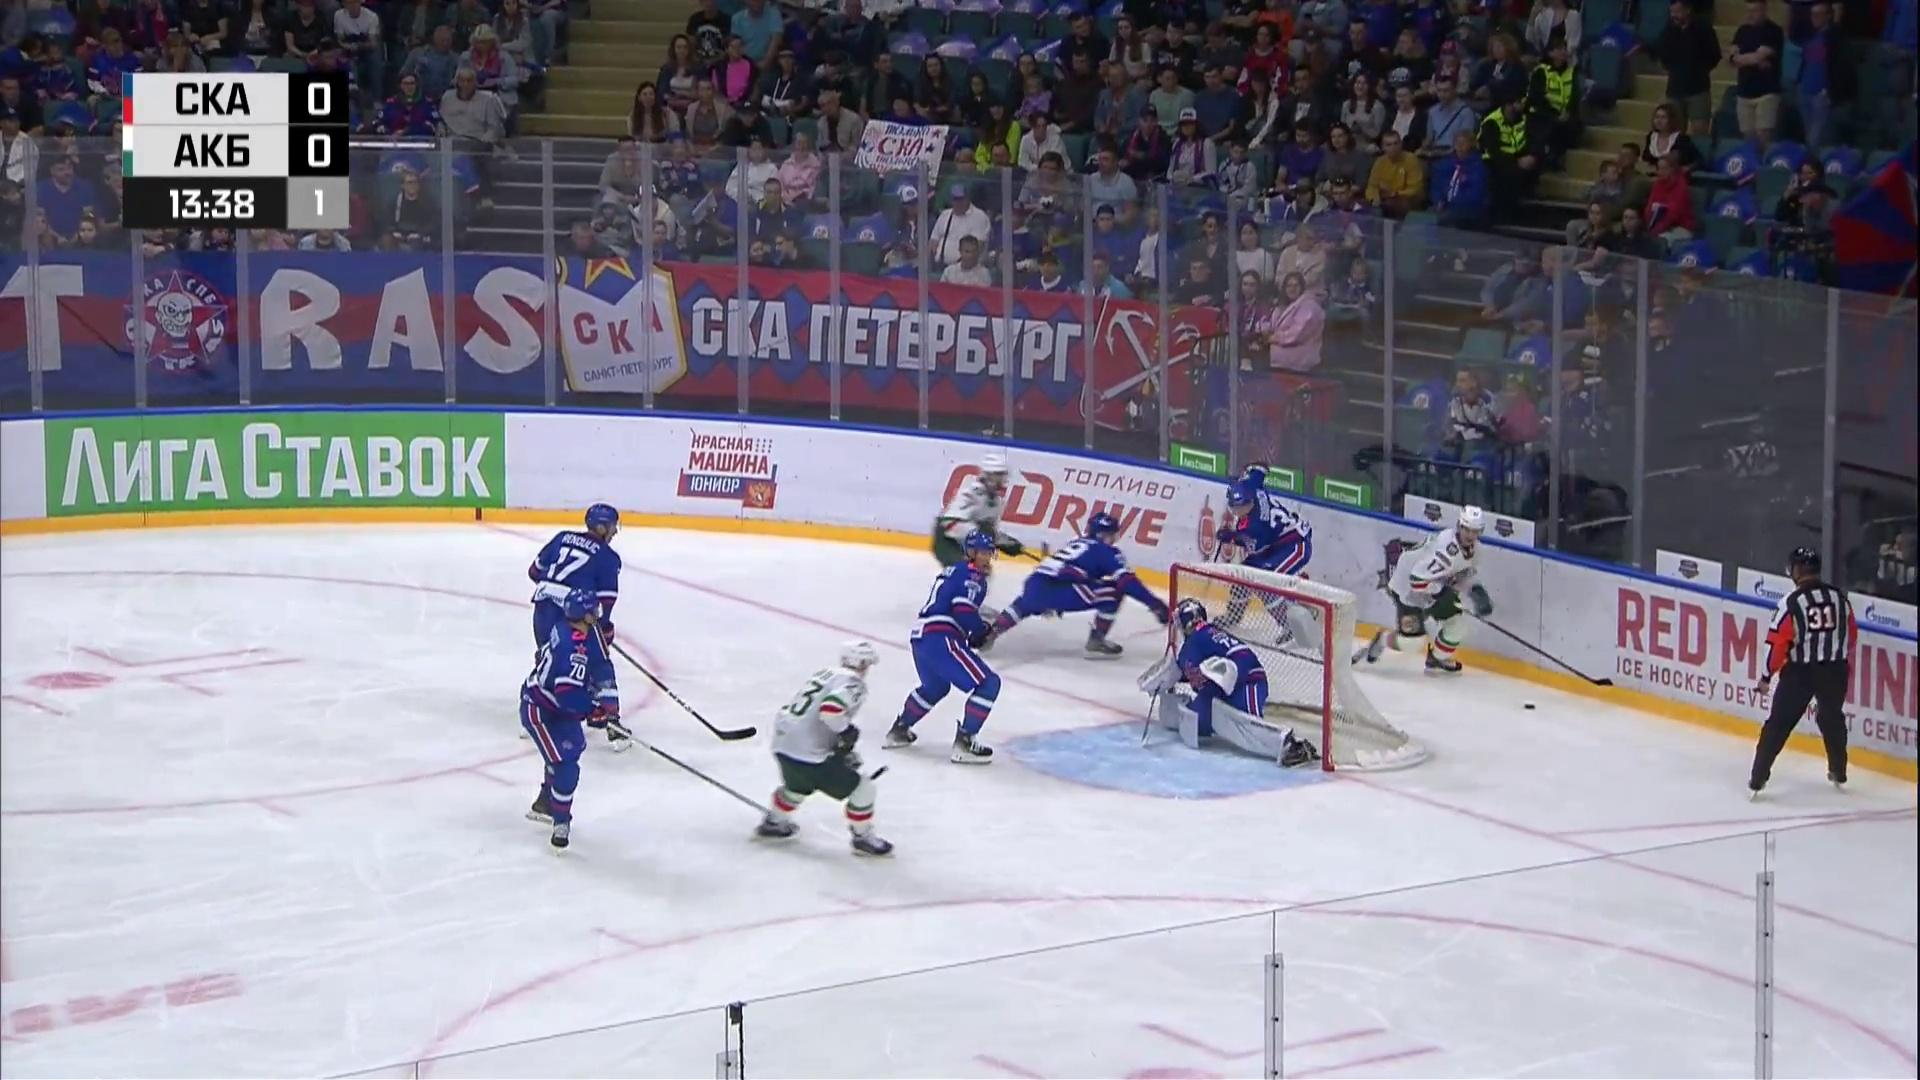ball: (1523, 703, 1536, 711)
